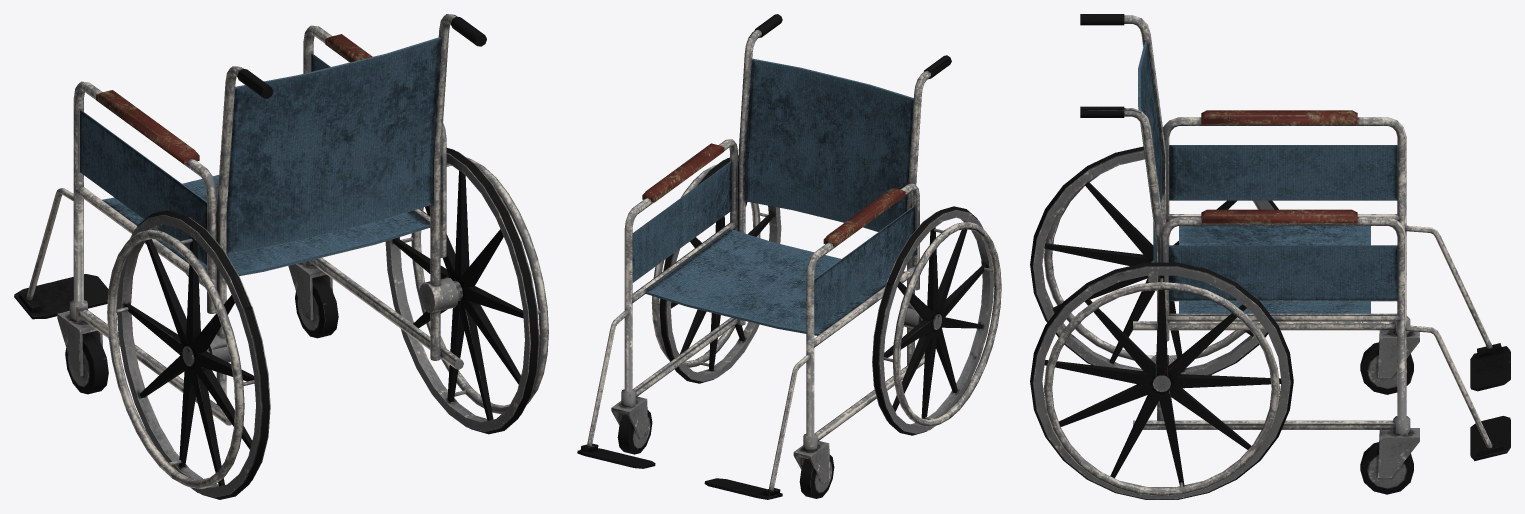
File: Wheelchair_AA.fbx
3 views of the same model, side by side, from view 1: azimuth 30°, elevation 25°; view 2: azimuth 150°, elevation 25°; view 3: azimuth 270°, elevation 25° (orthographic). The views are drawn at different scales.
Parts seen in each view (by area): view 1: Wheelchair_AA; view 2: Wheelchair_AA; view 3: Wheelchair_AA.
Part boxes in pixels (bbox=[...]): Wheelchair_AA: bbox=[14, 14, 548, 499]; Wheelchair_AA: bbox=[577, 14, 1001, 499]; Wheelchair_AA: bbox=[1030, 14, 1510, 499].
Size of the model in its own units: 0.7579 by 1.14 by 0.9966.
1 material, 1 textured.
